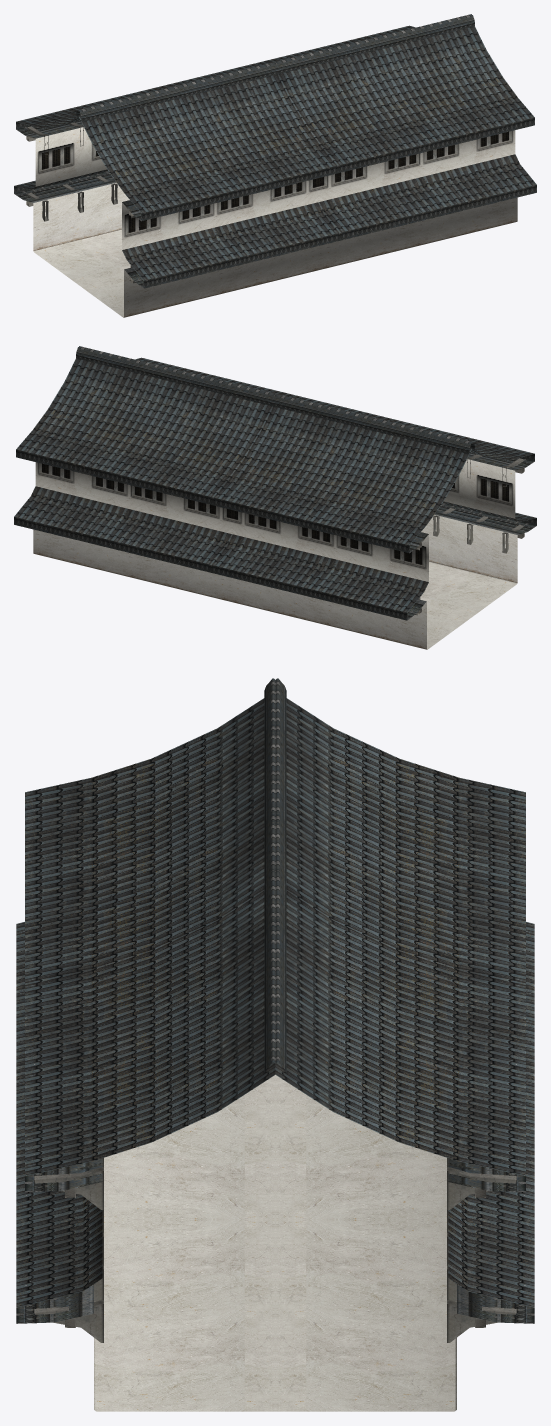
The model's file is building_connection_01.fbx.
The picture shows the model from 3 angles, top to bottom: view 1: azimuth 30°, elevation 25°; view 2: azimuth 150°, elevation 25°; view 3: azimuth 270°, elevation 25°; orthographic projection. The views are drawn at different scales.
Parts seen in each view (by area): view 1: building_connection_01; view 2: building_connection_01; view 3: building_connection_01.
Boxes of the visible parts, x1=… form: building_connection_01: x1=14, y1=14, x2=536, y2=317; building_connection_01: x1=14, y1=346, x2=536, y2=649; building_connection_01: x1=16, y1=678, x2=534, y2=1411.
Size of the model in its own units: 674 by 286 by 384.
